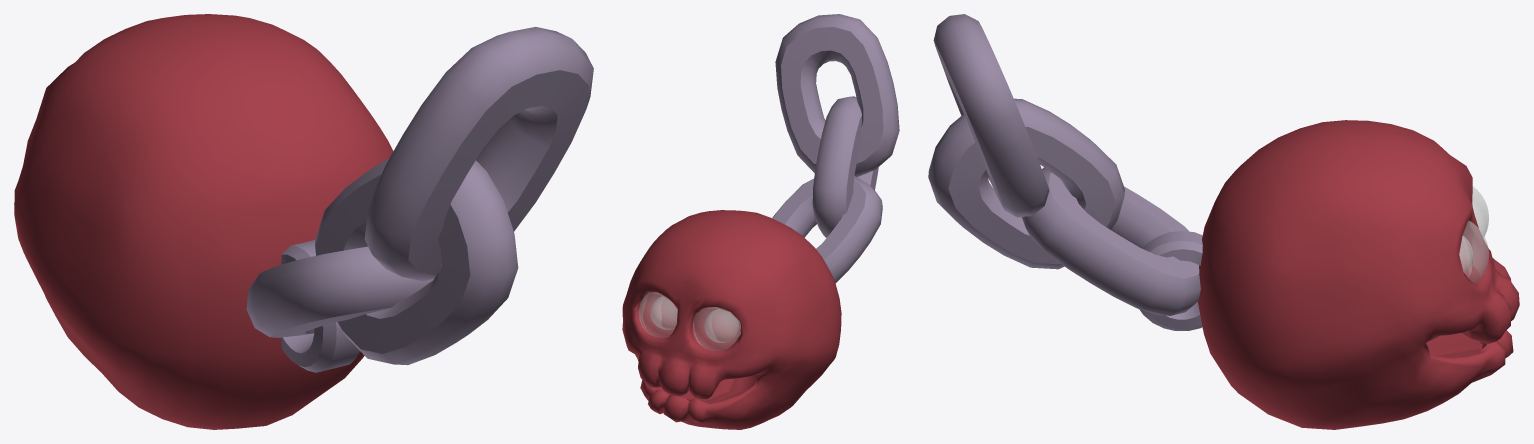
The model's file is Skull Boy.fbx.
3 views of the same model, side by side, from view 1: azimuth 30°, elevation 25°; view 2: azimuth 150°, elevation 25°; view 3: azimuth 270°, elevation 25° (orthographic). The views are drawn at different scales.
Visible parts, largest first — view 1: polySurface1, pTorus4, pTorus3, pTorus2, pTorus1; view 2: polySurface1, pTorus4, pTorus3, pTorus2, pSphere11, pSphere9, pSphere12, pSphere10; view 3: polySurface1, pTorus3, pTorus2, pTorus4, pTorus1, pSphere9.
Boxes of the visible parts, bbox=[...] form: polySurface1: bbox=[14, 14, 393, 429]; pTorus4: bbox=[364, 27, 593, 281]; pTorus3: bbox=[315, 158, 518, 365]; pTorus2: bbox=[246, 246, 433, 337]; pTorus1: bbox=[281, 240, 359, 372]; polySurface1: bbox=[622, 210, 841, 429]; pTorus4: bbox=[775, 14, 899, 176]; pTorus3: bbox=[812, 96, 878, 237]; pTorus2: bbox=[772, 176, 882, 283]; pSphere11: bbox=[693, 307, 740, 350]; pSphere9: bbox=[638, 292, 677, 337]; pSphere12: bbox=[704, 309, 738, 342]; pSphere10: bbox=[650, 296, 677, 329]; polySurface1: bbox=[1197, 120, 1519, 429]; pTorus3: bbox=[928, 98, 1124, 269]; pTorus2: bbox=[1022, 167, 1200, 315]; pTorus4: bbox=[933, 14, 1049, 217]; pTorus1: bbox=[1140, 230, 1202, 330]; pSphere9: bbox=[1459, 221, 1488, 283].
Size of the model in its own units: 2.26 by 3.58 by 4.6.
